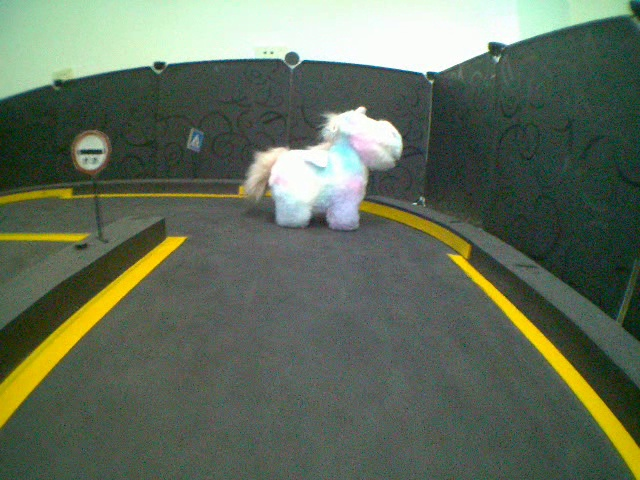unicorn: (239, 104, 408, 234)
